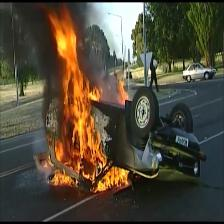fire: (36, 3, 142, 198)
smoke: (73, 4, 131, 118), (0, 3, 58, 103)
